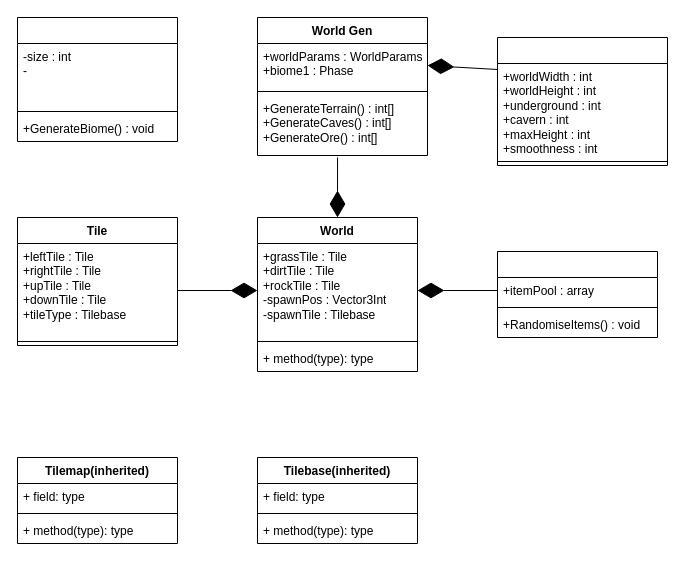
This 685x564 diagram has some shape labels left out. Each missing label, with the box of its shape:
Chest (optional): (496, 250, 658, 338)
Phase (SO): (16, 16, 178, 142)
WorldParams (Struct): (496, 36, 668, 166)
